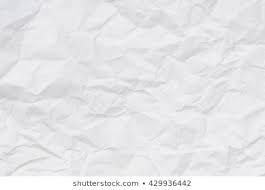paper: (0, 0, 264, 174)
